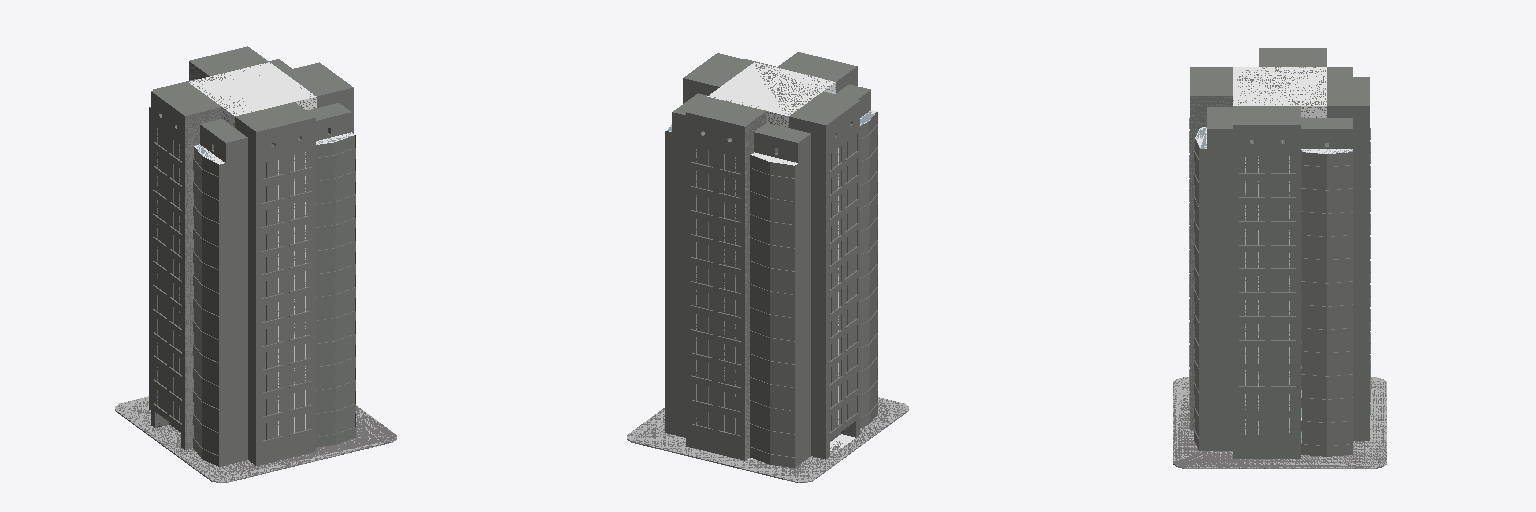
The model's file is BuildingOldLowPoly.obj.
The picture shows the model from 3 angles: view 1: azimuth 30°, elevation 25°; view 2: azimuth 150°, elevation 25°; view 3: azimuth 270°, elevation 25°; orthographic projection.
Visible parts, largest first — view 1: Mesh165 Group_10_1 Model, Mesh166 Group_12_1 Model, Mesh76 Group_8_22 Group_10_1 Model, Mesh73 Group_8_20 Group_10_1 Model, Mesh43 Group_8_8 Group_10_1 Model, Mesh75 Group_8_21 Group_10_1 Model, Mesh82 Group_8_24 Group_10_1 Model, Mesh87 Group_8_26 Group_10_1 Model, Mesh88 Group_8_27 Group_10_1 Model, Mesh90 Group_8_29 Group_10_1 Model, Mesh91 Group_8_30 Group_10_1 Model, Mesh92 Group_8_31 Group_10_1 Model (+16 smaller); view 2: Mesh165 Group_10_1 Model, Mesh166 Group_12_1 Model, Mesh140 Group_8_46 Group_10_1 Model, Mesh149 Group_8_48 Group_10_1 Model, Mesh156 Group_8_49 Group_10_1 Model, Mesh129 Group_8_41 Group_10_1 Model, Mesh133 Group_8_43 Group_10_1 Model, Mesh137 Group_8_45 Group_10_1 Model, Mesh160 Group_8_52 Group_10_1 Model, Mesh132 Group_8_42 Group_10_1 Model, Mesh136 Group_8_44 Group_10_1 Model, Mesh159 Group_8_51 Group_10_1 Model (+4 smaller); view 3: Mesh165 Group_10_1 Model, Mesh166 Group_12_1 Model, Mesh119 Group_8_35 Group_10_1 Model, Mesh3 Group_8_3 Group_10_1 Model, Mesh118 Group_8_34 Group_10_1 Model, Mesh1 Group_8_1 Group_10_1 Model, Mesh121 Group_8_36 Group_10_1 Model, Mesh4 Group_8_4 Group_10_1 Model, Mesh6 Group_8_5 Group_10_1 Model, Mesh7 Group_8_6 Group_10_1 Model, Mesh95 Group_8_33 Group_10_1 Model, Mesh122 Group_8_37 Group_10_1 Model (+3 smaller).
Boxes of the visible parts, box(x1,y1,x2,y2) form: Mesh165 Group_10_1 Model: box(151, 46, 353, 465); Mesh166 Group_12_1 Model: box(115, 396, 396, 482); Mesh76 Group_8_22 Group_10_1 Model: box(316, 132, 355, 168); Mesh73 Group_8_20 Group_10_1 Model: box(193, 144, 225, 187); Mesh43 Group_8_8 Group_10_1 Model: box(316, 414, 355, 447); Mesh75 Group_8_21 Group_10_1 Model: box(316, 345, 355, 377); Mesh82 Group_8_24 Group_10_1 Model: box(316, 321, 355, 354); Mesh87 Group_8_26 Group_10_1 Model: box(316, 205, 355, 237); Mesh88 Group_8_27 Group_10_1 Model: box(316, 228, 355, 261); Mesh90 Group_8_29 Group_10_1 Model: box(316, 159, 355, 191); Mesh91 Group_8_30 Group_10_1 Model: box(316, 252, 355, 284); Mesh92 Group_8_31 Group_10_1 Model: box(316, 275, 355, 307); Mesh165 Group_10_1 Model: box(672, 52, 870, 464); Mesh166 Group_12_1 Model: box(627, 397, 908, 482); Mesh140 Group_8_46 Group_10_1 Model: box(750, 152, 797, 188); Mesh149 Group_8_48 Group_10_1 Model: box(750, 225, 797, 258); Mesh156 Group_8_49 Group_10_1 Model: box(750, 318, 797, 351); Mesh129 Group_8_41 Group_10_1 Model: box(750, 248, 797, 281); Mesh133 Group_8_43 Group_10_1 Model: box(750, 388, 797, 421); Mesh137 Group_8_45 Group_10_1 Model: box(750, 434, 797, 467); Mesh160 Group_8_52 Group_10_1 Model: box(750, 341, 797, 374); Mesh132 Group_8_42 Group_10_1 Model: box(750, 179, 797, 212); Mesh136 Group_8_44 Group_10_1 Model: box(750, 272, 797, 305); Mesh159 Group_8_51 Group_10_1 Model: box(750, 365, 797, 398); Mesh165 Group_10_1 Model: box(1190, 48, 1369, 458); Mesh166 Group_12_1 Model: box(1173, 377, 1386, 468); Mesh119 Group_8_35 Group_10_1 Model: box(1301, 149, 1352, 177); Mesh3 Group_8_3 Group_10_1 Model: box(1301, 315, 1352, 340); Mesh118 Group_8_34 Group_10_1 Model: box(1301, 408, 1352, 433); Mesh1 Group_8_1 Group_10_1 Model: box(1301, 222, 1352, 247); Mesh121 Group_8_36 Group_10_1 Model: box(1301, 245, 1352, 270); Mesh4 Group_8_4 Group_10_1 Model: box(1301, 339, 1352, 363); Mesh6 Group_8_5 Group_10_1 Model: box(1301, 362, 1352, 386); Mesh7 Group_8_6 Group_10_1 Model: box(1301, 269, 1352, 293); Mesh95 Group_8_33 Group_10_1 Model: box(1301, 432, 1352, 456); Mesh122 Group_8_37 Group_10_1 Model: box(1301, 176, 1352, 200).
Bounding box in the file's own units: 25 × 43.15 × 25.